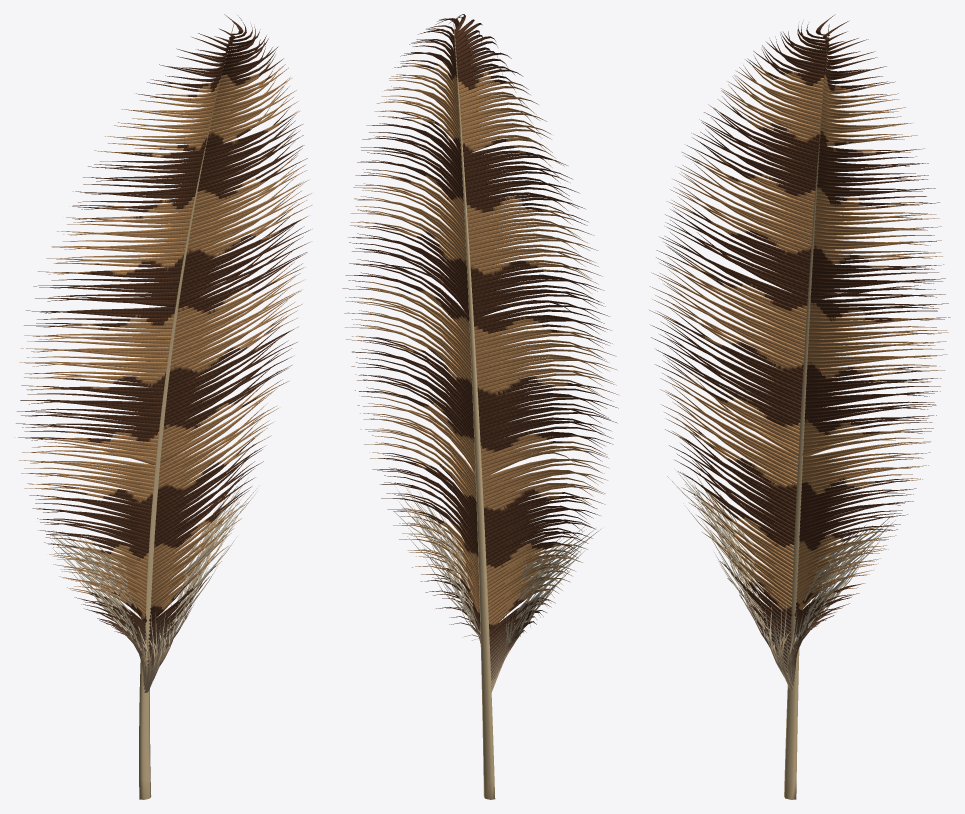
File: hen_feather.glb
3 renders of one model, left to right at view 1: azimuth 30°, elevation 25°; view 2: azimuth 150°, elevation 25°; view 3: azimuth 330°, elevation 25°, orthographic. The views are drawn at different scales.
Visible parts, largest first — view 1: hen_feather keratin vane, Soft branching basal filaments, Ivory keratin rachis; view 2: hen_feather keratin vane, Ivory keratin rachis, Soft branching basal filaments; view 3: hen_feather keratin vane, Soft branching basal filaments, Ivory keratin rachis.
Boxes of the visible parts, <box> form: hen_feather keratin vane: <box>14,14,311,692</box>; Soft branching basal filaments: <box>48,477,259,672</box>; Ivory keratin rachis: <box>139,23,234,799</box>; hen_feather keratin vane: <box>342,14,619,691</box>; Ivory keratin rachis: <box>453,21,495,799</box>; Soft branching basal filaments: <box>395,488,600,651</box>; hen_feather keratin vane: <box>649,14,950,689</box>; Soft branching basal filaments: <box>667,468,895,667</box>; Ivory keratin rachis: <box>784,24,829,799</box>.
Bounding box in the file's own units: 0.0795 × 0.2109 × 0.0223.
Materials: 3 (1 with a texture image).
